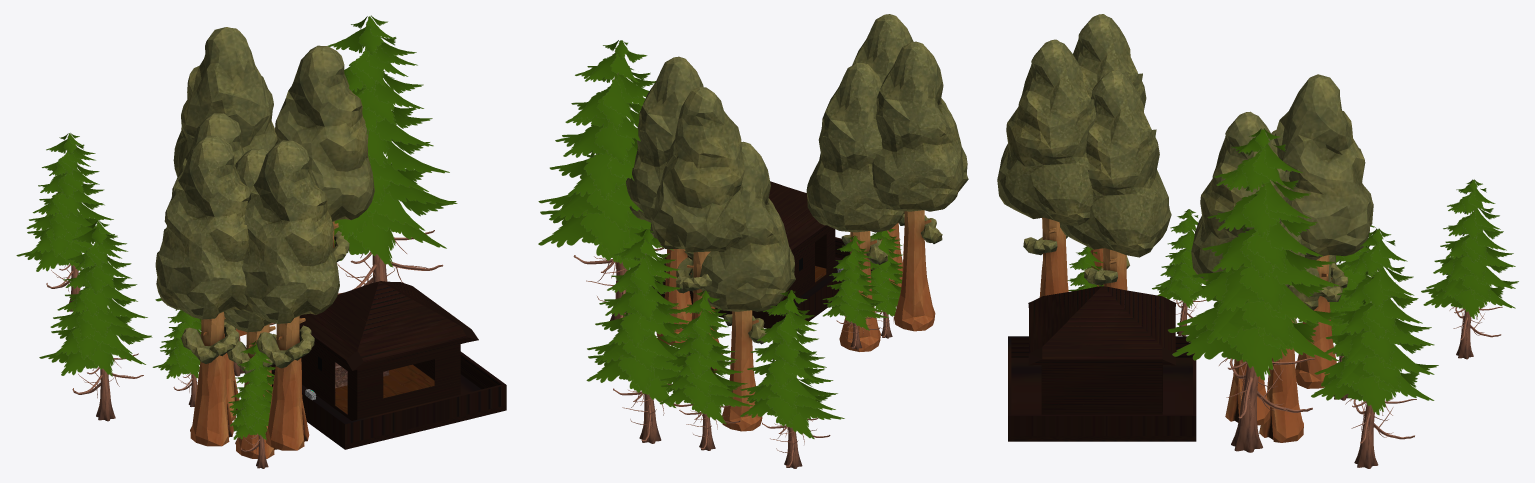
3 renders of one model, left to right at view 1: azimuth 30°, elevation 25°; view 2: azimuth 150°, elevation 25°; view 3: azimuth 270°, elevation 25°, orthographic. The views are drawn at different scales.
Visible parts, largest first — view 1: RadioTower.glb.001, SequoiaTree_Mesh_4, SequoiaTree_Mesh_5, Pine_4_2_5, SequoiaTree_Mesh_1, Pine_4_2, SequoiaTree_Mesh_2, Pine_4_2_1_1, SequoiaTree_Mesh_3, Pine_4_2_3, SequoiaTree_Mesh, Pine_4_2_4 (+2 smaller); view 2: SequoiaTree_Mesh_5, Pine_4_2_5, SequoiaTree_Mesh_2, SequoiaTree_Mesh_3, SequoiaTree_Mesh, Pine_4, Pine_4_2, SequoiaTree_Mesh_1, RadioTower.glb.001, Pine_4_2_1_1, Pine_4_2_4, SequoiaTree_Mesh_4 (+4 smaller); view 3: RadioTower.glb.001, Pine_4_2_5, SequoiaTree_Mesh_4, SequoiaTree_Mesh_2, SequoiaTree_Mesh_3, Pine_4, Pine_4_2_1_1, SequoiaTree_Mesh_1, SequoiaTree_Mesh_5, SequoiaTree_Mesh, Pine_4_2_4, Pine_4_1_5 (+3 smaller).
Boxes of the visible parts, <box> form: RadioTower.glb.001: <box>271,281,506,449</box>; SequoiaTree_Mesh_4: <box>242,140,339,450</box>; SequoiaTree_Mesh_5: <box>155,136,250,446</box>; Pine_4_2_5: <box>328,15,457,267</box>; SequoiaTree_Mesh_1: <box>275,45,374,262</box>; Pine_4_2: <box>39,220,152,376</box>; SequoiaTree_Mesh_2: <box>173,27,277,336</box>; Pine_4_2_1_1: <box>16,133,117,271</box>; SequoiaTree_Mesh_3: <box>224,148,277,458</box>; Pine_4_2_3: <box>228,340,275,439</box>; SequoiaTree_Mesh: <box>162,113,244,420</box>; Pine_4_2_4: <box>152,309,201,378</box>; SequoiaTree_Mesh_5: <box>872,41,968,331</box>; Pine_4_2_5: <box>538,40,673,281</box>; SequoiaTree_Mesh_2: <box>650,86,746,373</box>; SequoiaTree_Mesh_3: <box>806,62,904,351</box>; SequoiaTree_Mesh: <box>689,141,795,431</box>; Pine_4: <box>586,229,693,443</box>; Pine_4_2: <box>740,290,844,439</box>; SequoiaTree_Mesh_1: <box>626,56,703,345</box>; RadioTower.glb.001: <box>652,181,872,328</box>; Pine_4_2_1_1: <box>659,290,753,424</box>; Pine_4_2_4: <box>822,235,888,330</box>; SequoiaTree_Mesh_4: <box>852,14,913,286</box>; RadioTower.glb.001: <box>1008,286,1196,441</box>; Pine_4_2_5: <box>1168,128,1344,380</box>; SequoiaTree_Mesh_4: <box>997,39,1095,297</box>; SequoiaTree_Mesh_2: <box>1274,74,1373,388</box>; SequoiaTree_Mesh_3: <box>1059,70,1171,290</box>; Pine_4: <box>1311,228,1438,468</box>; Pine_4_2_1_1: <box>1421,179,1518,318</box>; SequoiaTree_Mesh_1: <box>1191,111,1304,425</box>; SequoiaTree_Mesh_5: <box>1073,14,1146,286</box>; SequoiaTree_Mesh: <box>1259,130,1336,442</box>; Pine_4_2_4: <box>1152,209,1214,307</box>; Pine_4_1_5: <box>1219,184,1314,452</box>.
Bounding box in the file's own units: 65.19 × 62.31 × 77.79.
37 materials, 30 textured.
